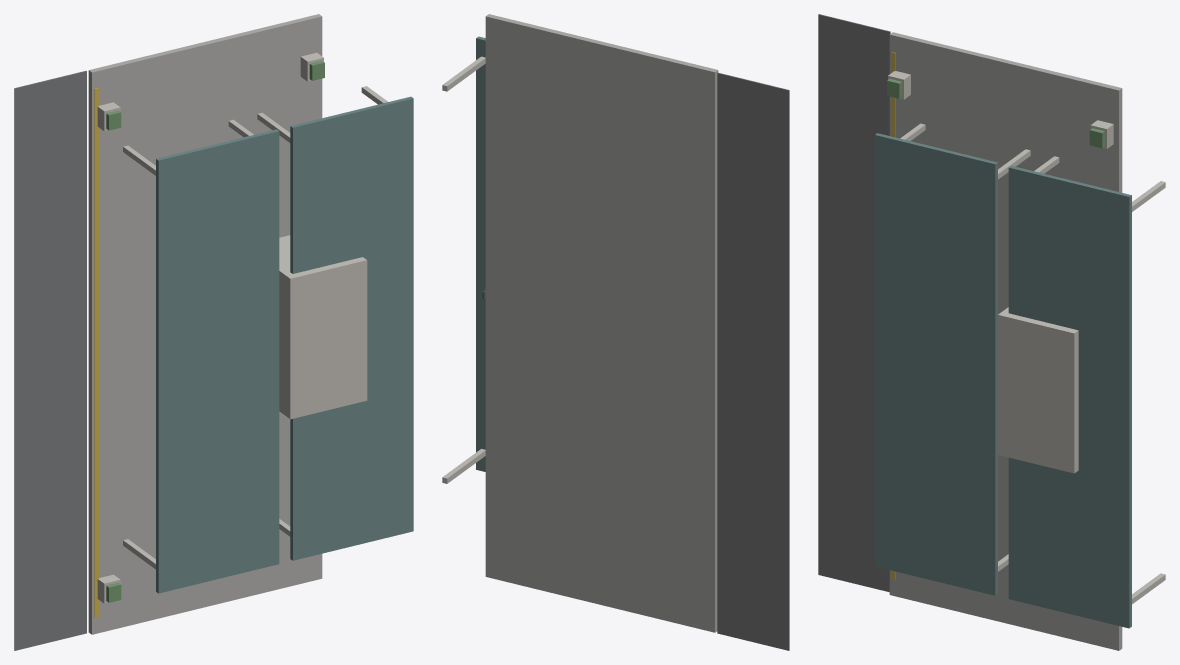
The model's file is medium_bus_terminal.glb.
3 views of the same model, side by side, from view 1: azimuth 30°, elevation 25°; view 2: azimuth 150°, elevation 25°; view 3: azimuth 330°, elevation 25° (orthographic).
Parts seen in each view (by area): view 1: 0000_Paved_stop_platform, 0003_Transit_canopy, 0012_Transit_canopy, 0002_Bus_asphalt_lane, 0021_Station_passenger_hall, 0001_Yellow_accessible_edge; view 2: 0000_Paved_stop_platform, 0002_Bus_asphalt_lane, 0012_Transit_canopy; view 3: 0003_Transit_canopy, 0012_Transit_canopy, 0002_Bus_asphalt_lane, 0000_Paved_stop_platform, 0021_Station_passenger_hall.
Boxes of the visible parts, bbox=[...] form: 0000_Paved_stop_platform: bbox=[88, 14, 322, 634]; 0003_Transit_canopy: bbox=[156, 129, 279, 593]; 0012_Transit_canopy: bbox=[290, 96, 413, 560]; 0002_Bus_asphalt_lane: bbox=[14, 71, 86, 650]; 0021_Station_passenger_hall: bbox=[279, 235, 367, 419]; 0001_Yellow_accessible_edge: bbox=[94, 88, 98, 617]; 0000_Paved_stop_platform: bbox=[485, 14, 718, 632]; 0002_Bus_asphalt_lane: bbox=[717, 72, 789, 650]; 0012_Transit_canopy: bbox=[476, 36, 485, 471]; 0003_Transit_canopy: bbox=[875, 133, 997, 595]; 0012_Transit_canopy: bbox=[1008, 166, 1131, 628]; 0002_Bus_asphalt_lane: bbox=[818, 14, 890, 592]; 0000_Paved_stop_platform: bbox=[889, 32, 1122, 650]; 0021_Station_passenger_hall: bbox=[998, 307, 1078, 473].
Bounding box in the file's own units: 18.52 × 28 × 4.36.
